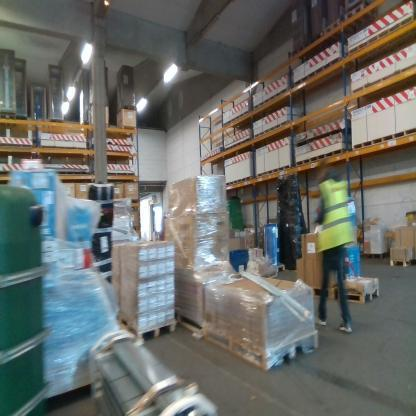pallets: (197, 323, 268, 372), (117, 314, 178, 345), (348, 127, 415, 154), (340, 284, 381, 305), (390, 256, 415, 268)
